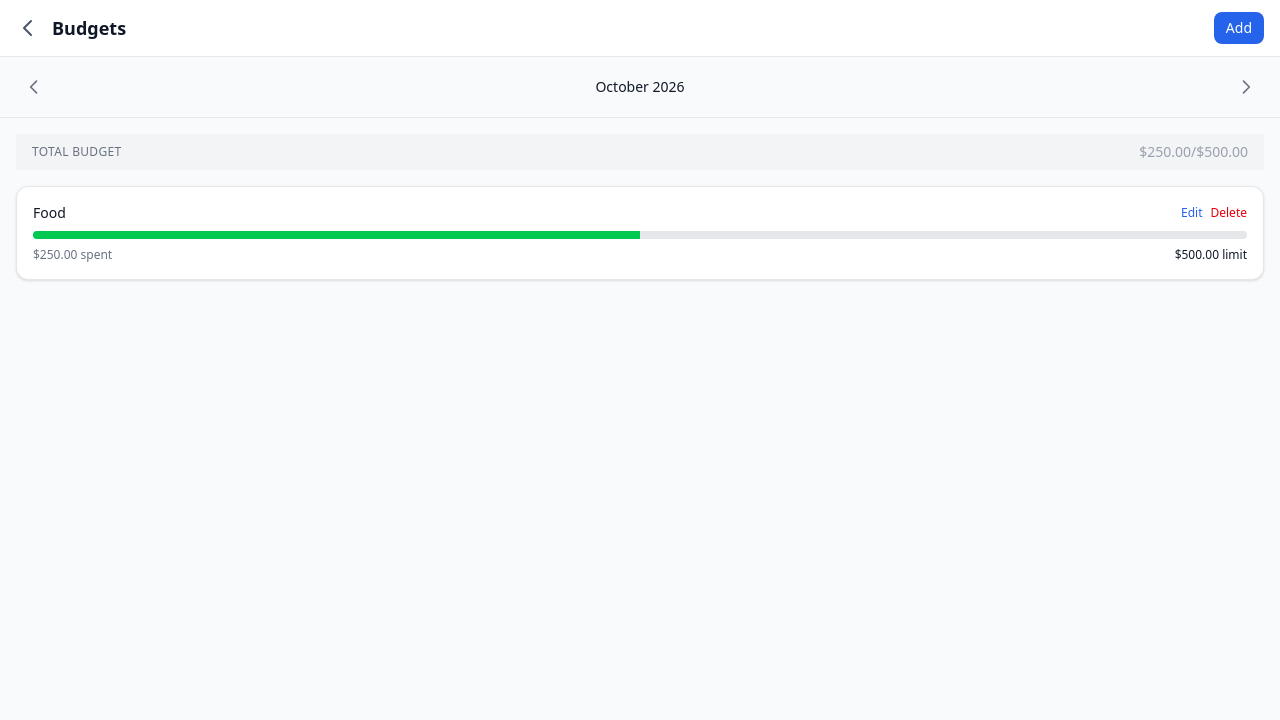
Test case: BudgetsPage › Edit Budget › opens modal with budget data when Edit clicked
Expected: the text "food" is shown, [33,203,66,223]
Click the button "Edit": (1192, 213) [1181,205,1202,221]
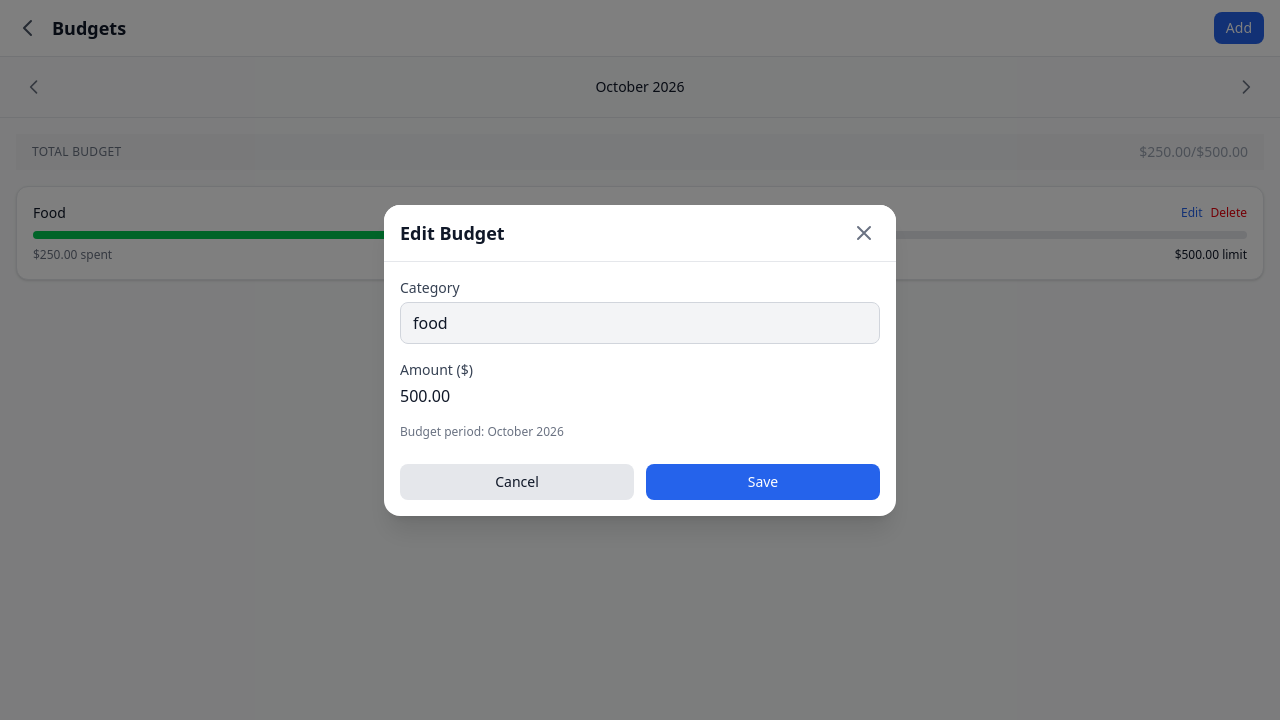
Result: the heading "Edit Budget" is shown at [400,218,505,246]
